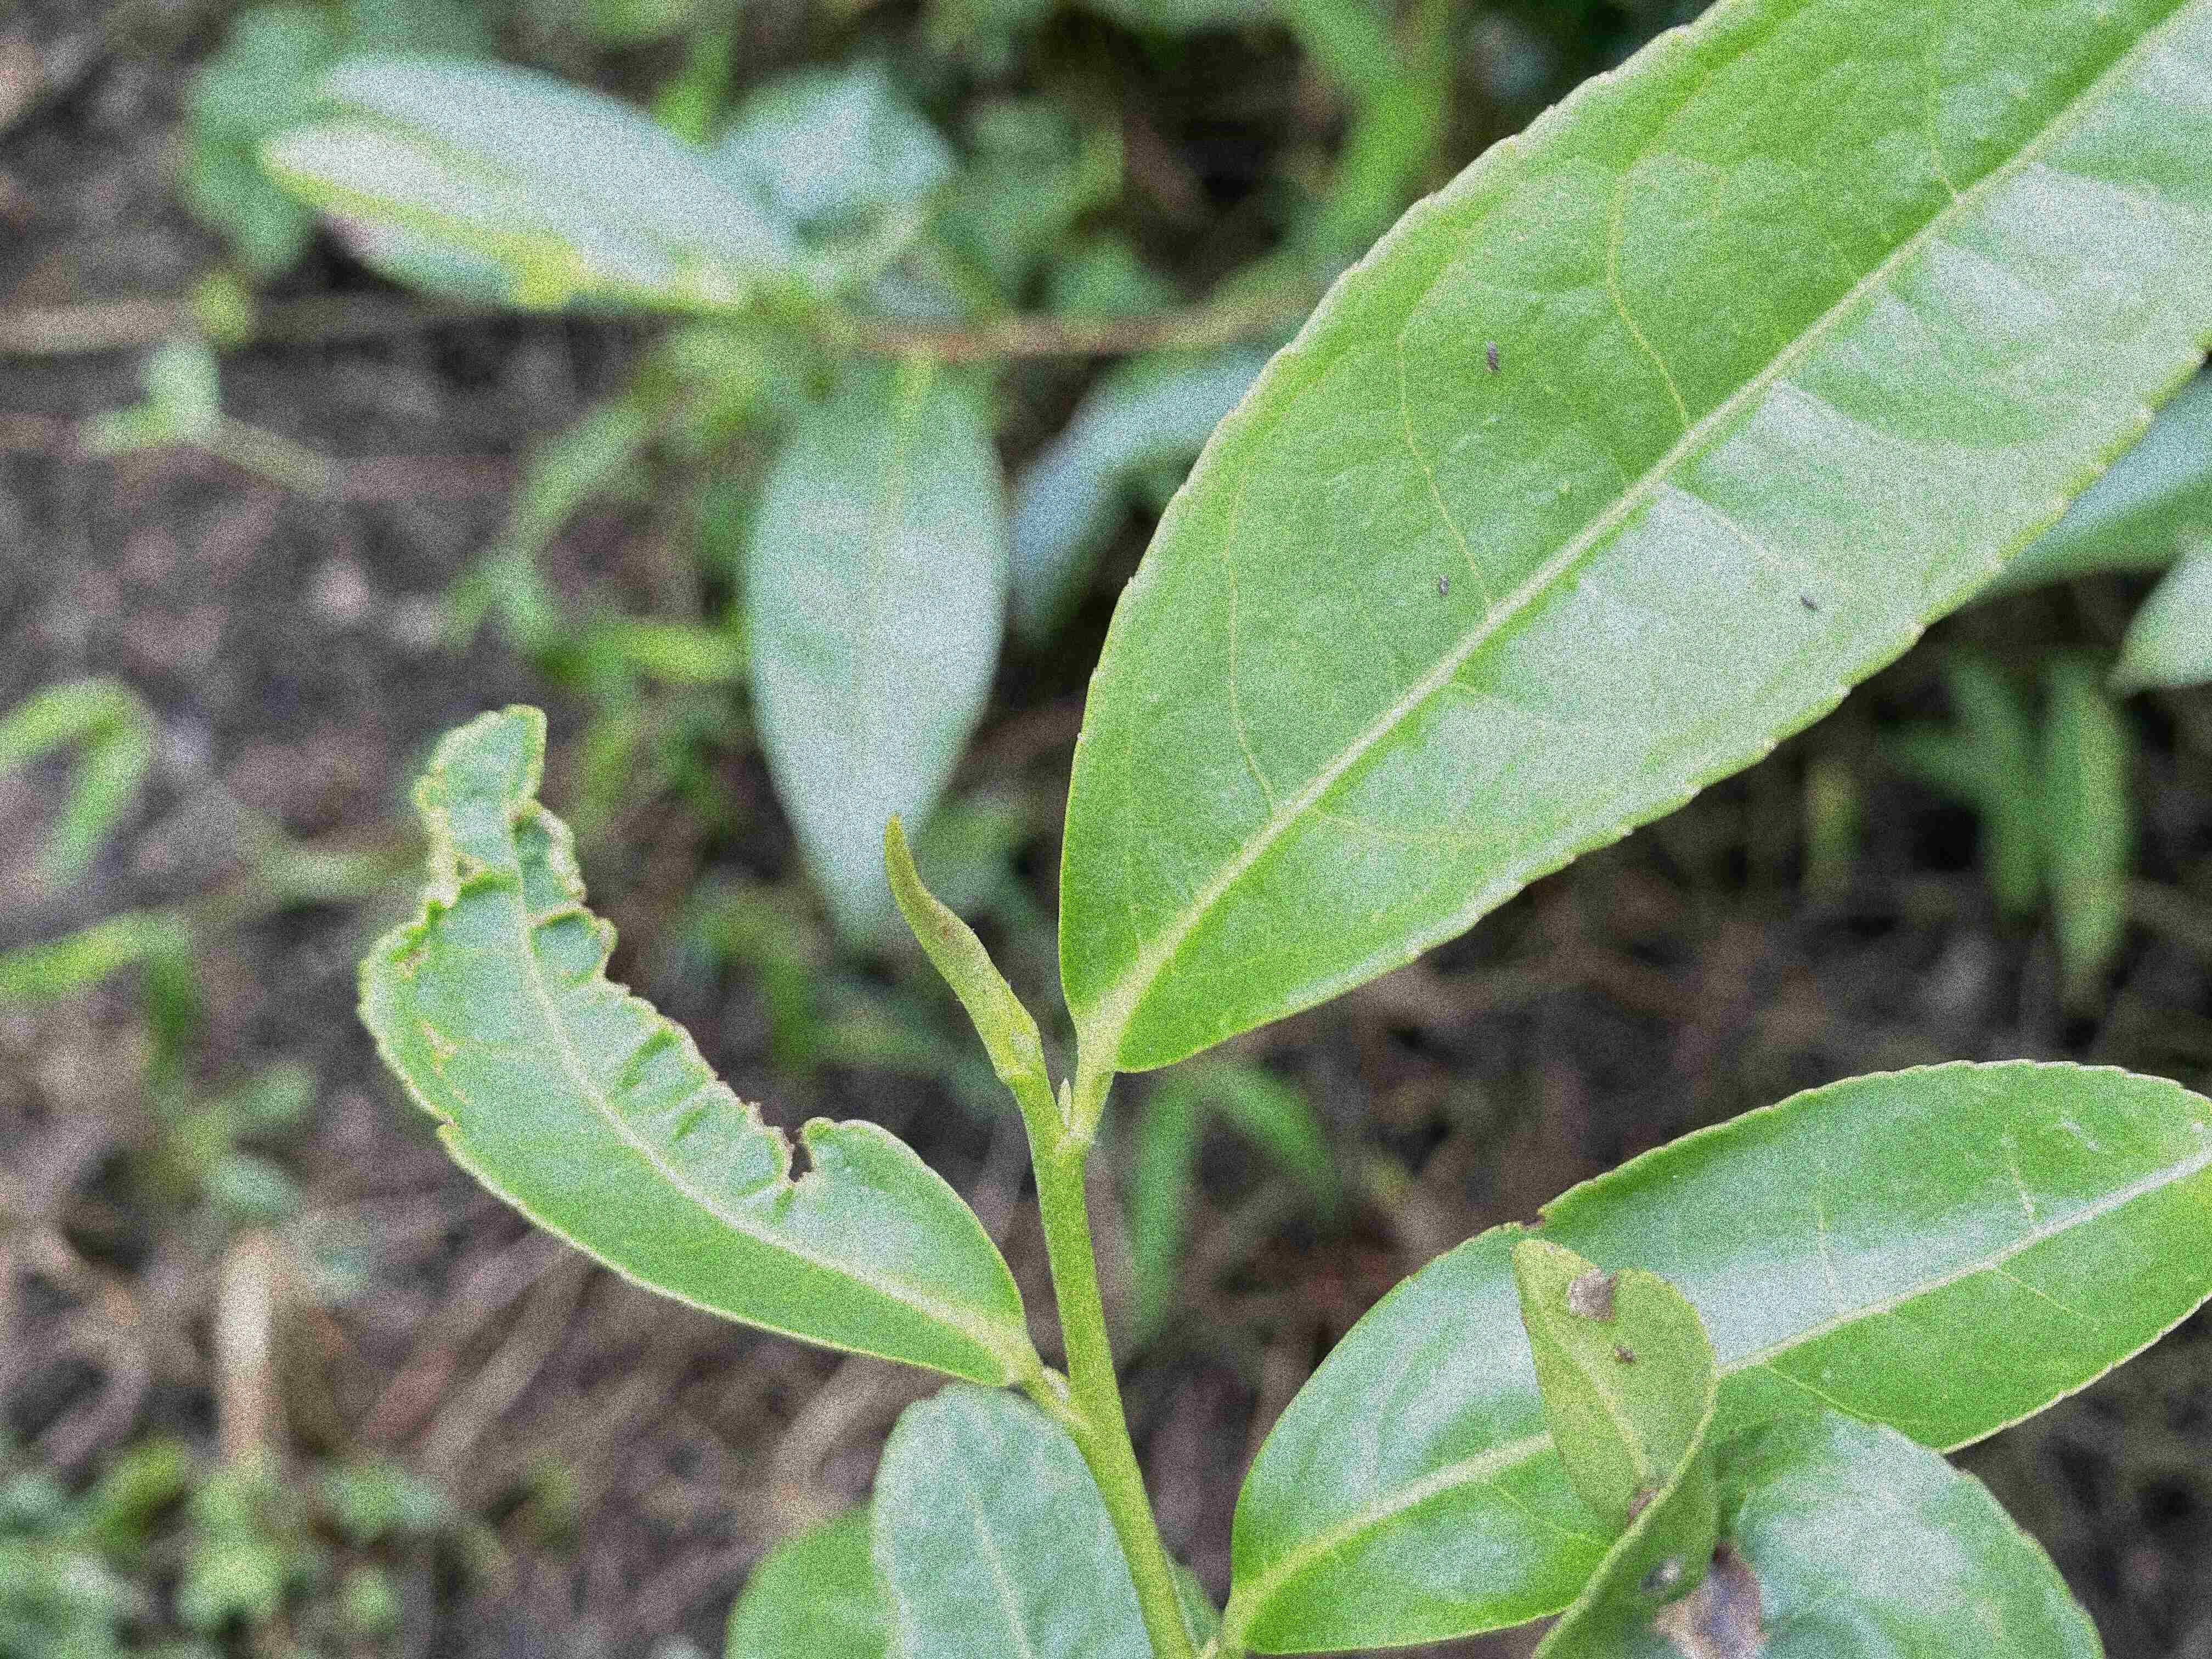chihuo_high: (354, 701, 1033, 1389)
healthy: (1223, 1058, 2212, 1656)
tanju_high: (1515, 1236, 2104, 1654)
